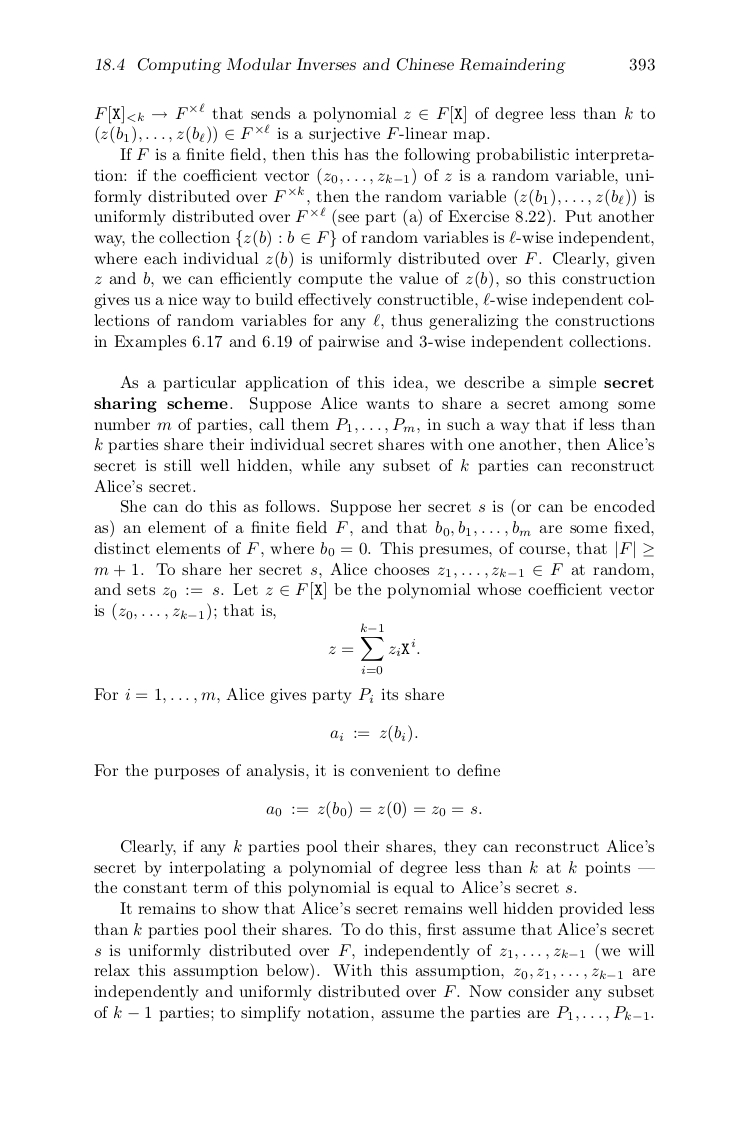formula: (328, 623, 419, 674), (266, 800, 481, 819), (330, 724, 417, 743)
